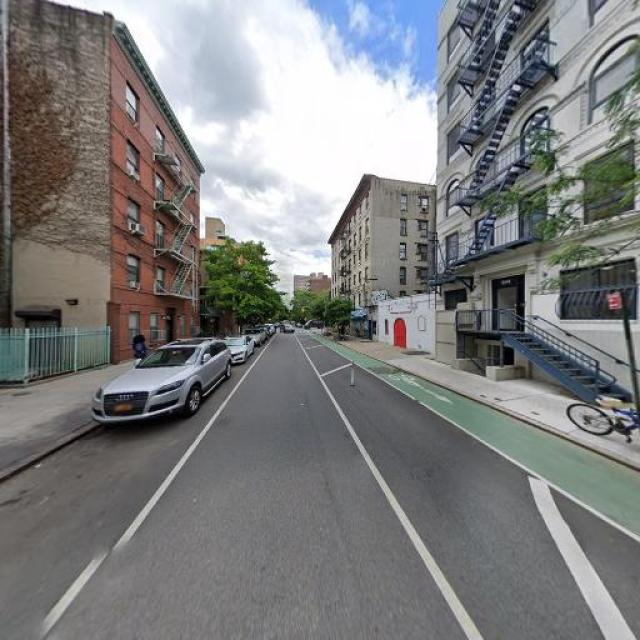Building: (439, 1, 640, 395), (119, 29, 199, 360)
